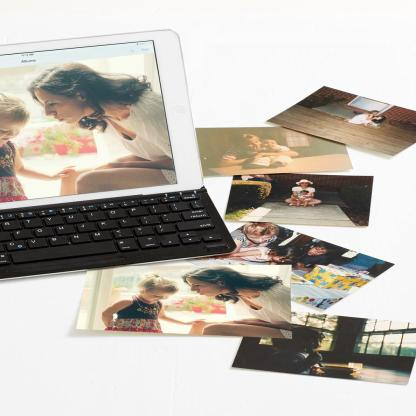board: (0, 31, 238, 279)
